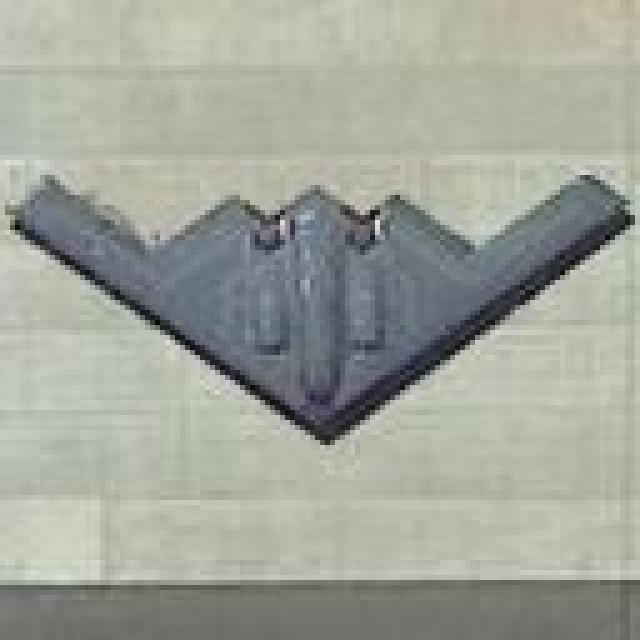B-2_TopDown: (0, 150, 635, 445)
